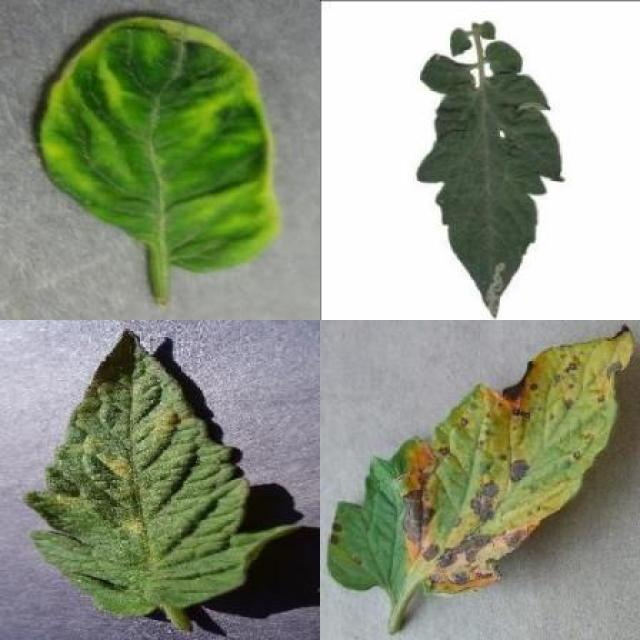Early Blight: (328, 326, 635, 596)
Leaf Miner: (411, 71, 564, 320)
Leaf Mold: (25, 327, 294, 620)
Yellow Leaf Curl Virus: (38, 14, 281, 275)
